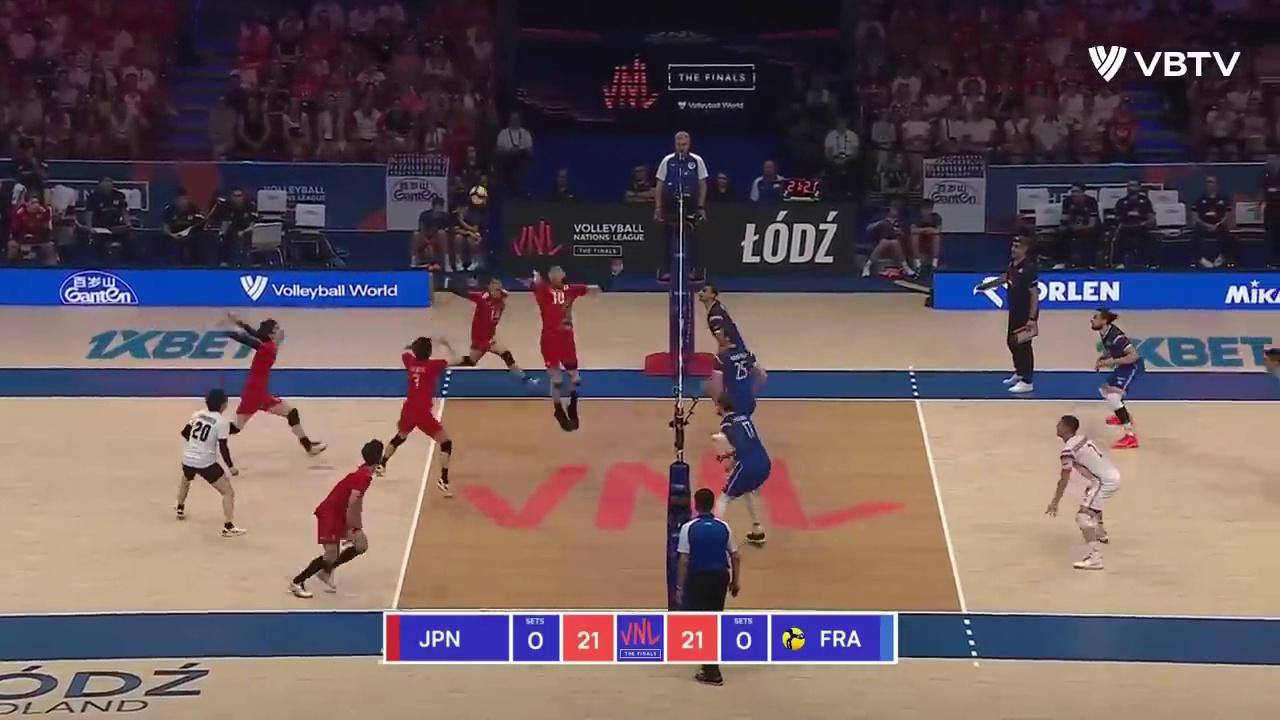ball: (469, 186, 487, 205)
